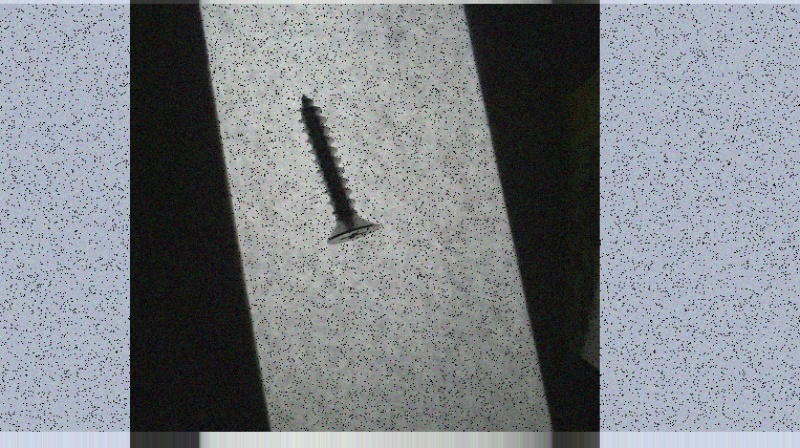S001: (296, 90, 381, 247)
